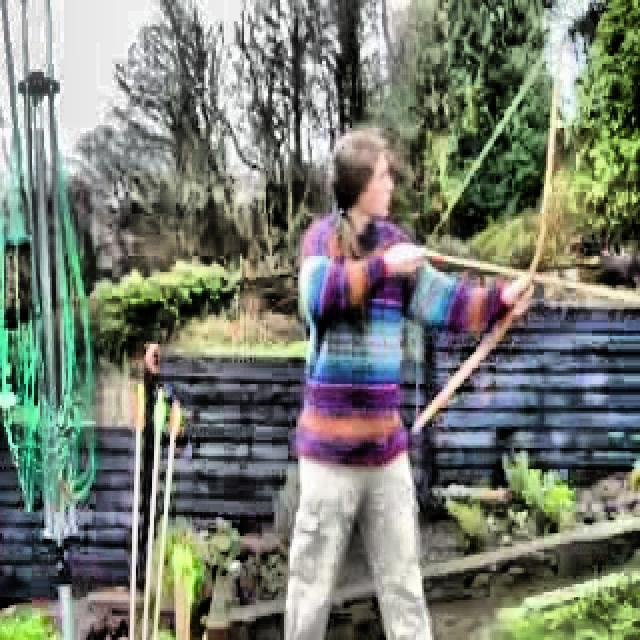I: (266, 115, 542, 640)
